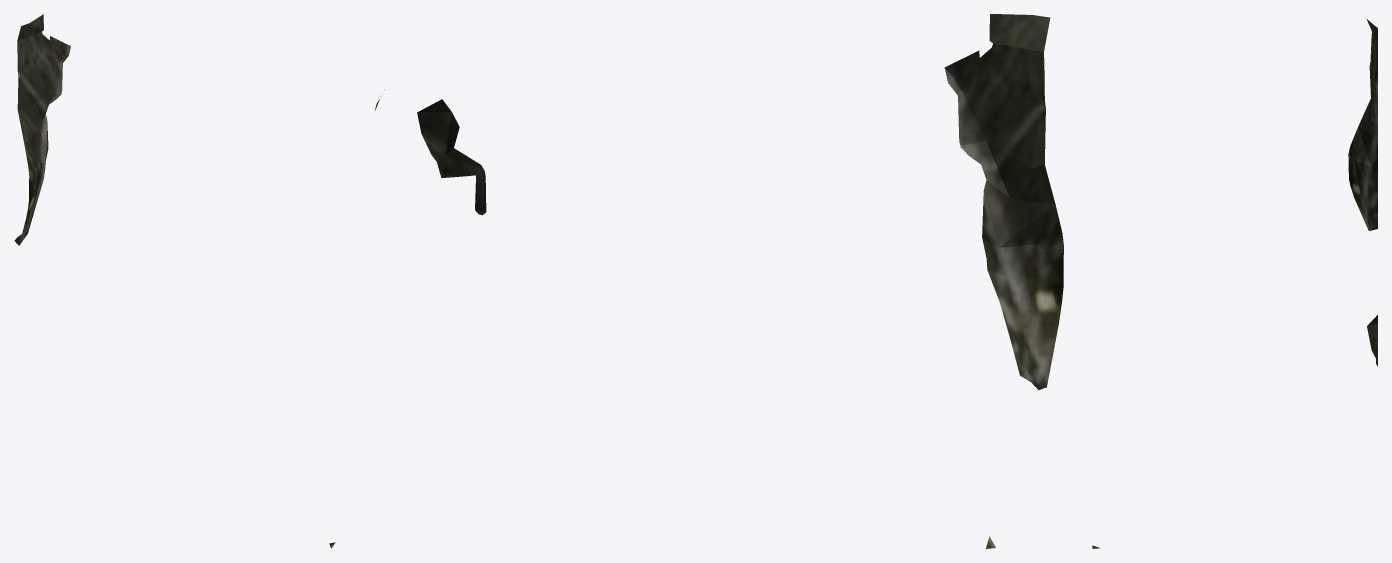
3 views of the same model, side by side, from view 1: azimuth 30°, elevation 25°; view 2: azimuth 150°, elevation 25°; view 3: azimuth 270°, elevation 25° (orthographic). The views are drawn at different scales.
Size of the model in its own units: 2.41 by 2.85 by 1.63.
1 material, 1 textured.
